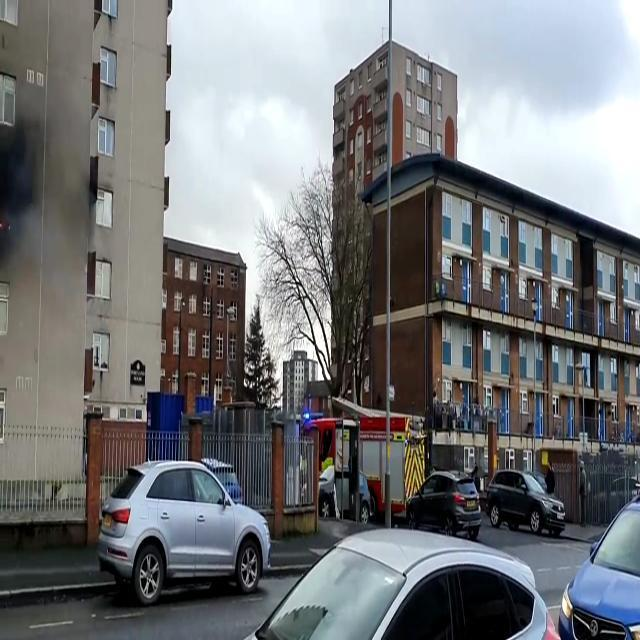Smoke: (0, 64, 99, 326)
